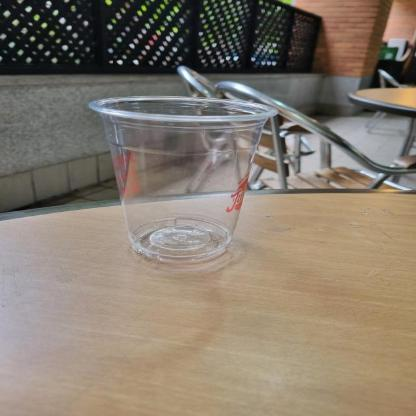Plastic Cup: (83, 91, 283, 267)
